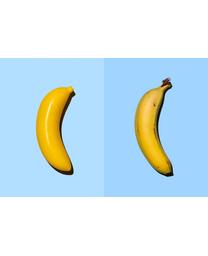banana: (134, 77, 173, 176), (35, 85, 75, 175)
